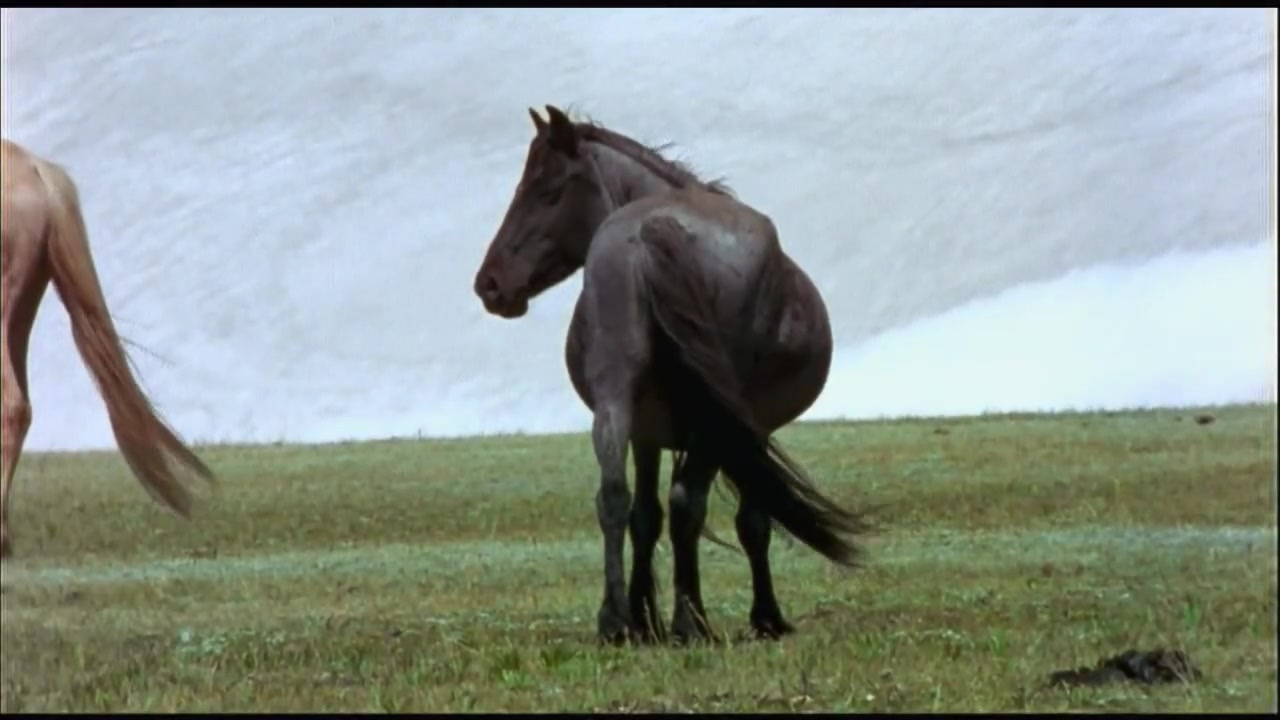horse: (474, 101, 876, 658)
